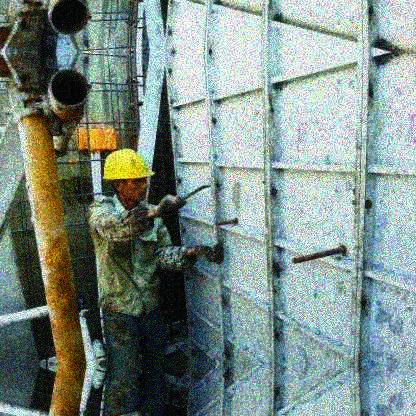helmet: (102, 148, 155, 207)
